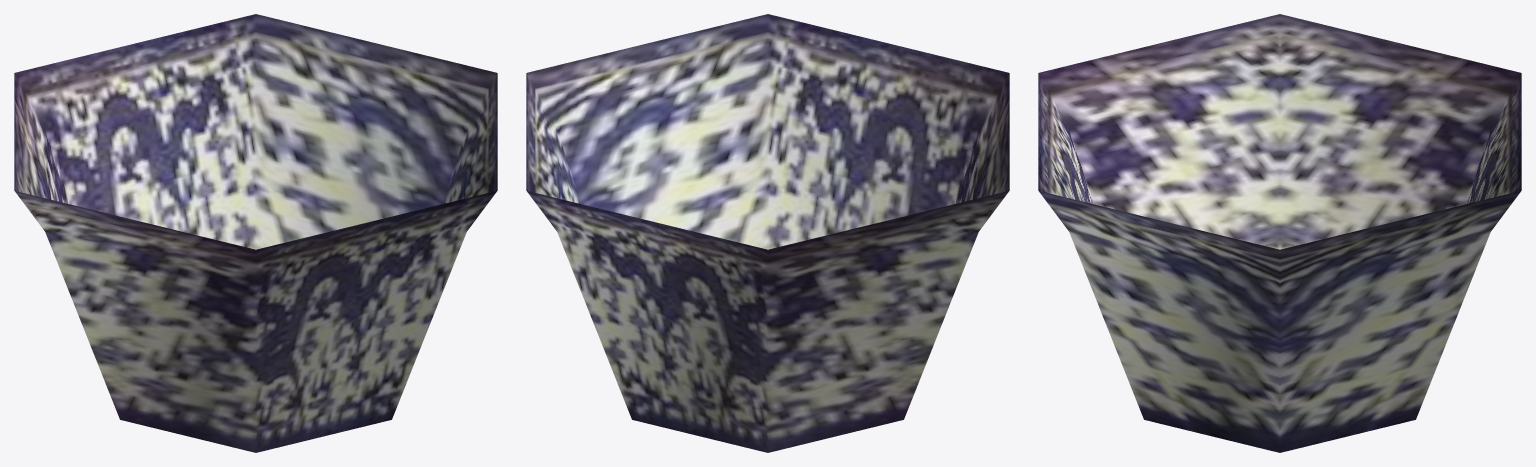
Rendered from sob45.obj.
The picture shows the model from 3 angles, left to right: view 1: azimuth 30°, elevation 25°; view 2: azimuth 150°, elevation 25°; view 3: azimuth 270°, elevation 25°; orthographic projection.
Parts seen in each view (by area): view 1: sob45; view 2: sob45; view 3: sob45.
Boxes of the visible parts, x1,y1,x2,y2 form: sob45: (14, 14, 497, 452); sob45: (526, 14, 1009, 452); sob45: (1038, 14, 1521, 452).
Size of the model in its own units: 9.34 by 4.7 by 8.08.
